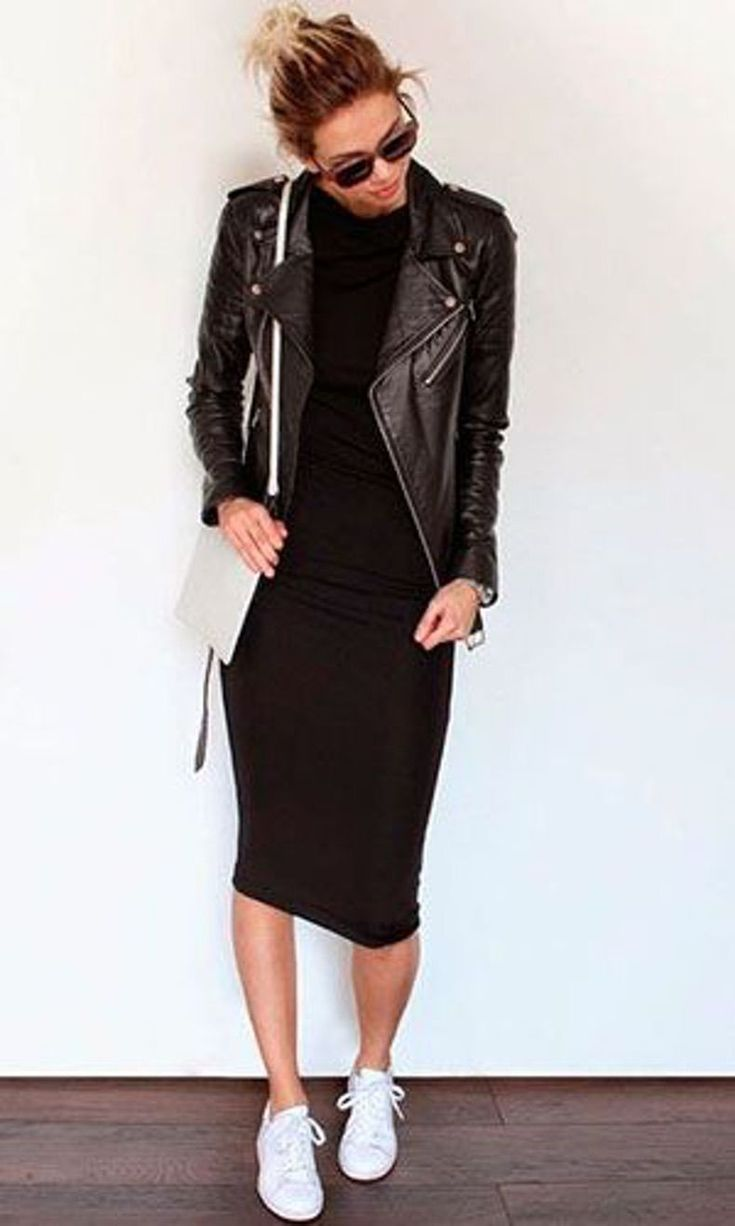cuero: (187, 170, 520, 600)
